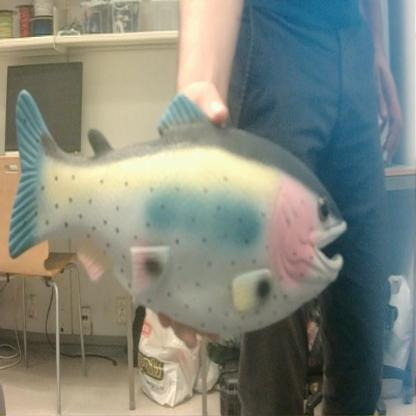rubberfish: (5, 85, 352, 343)
